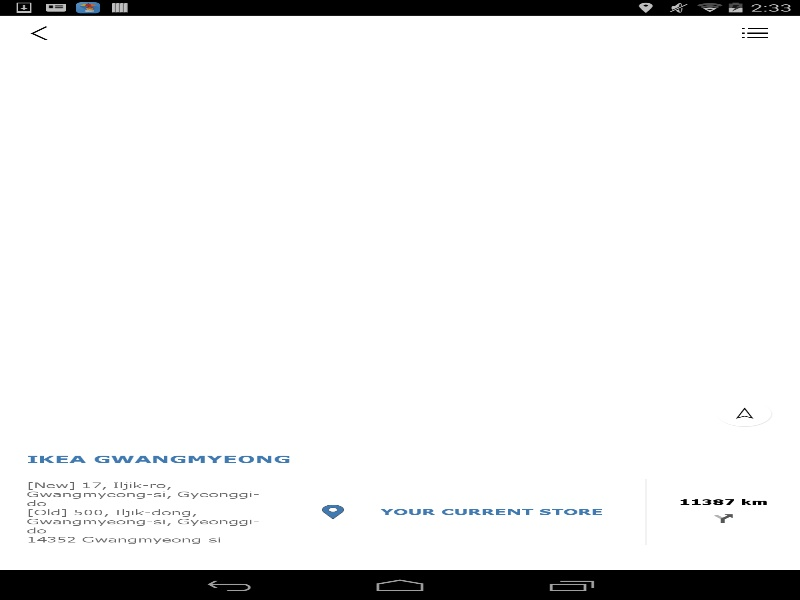Button: (2, 9, 80, 49), (698, 551, 778, 590), (698, 551, 778, 589)
Input: (82, 14, 796, 43)
